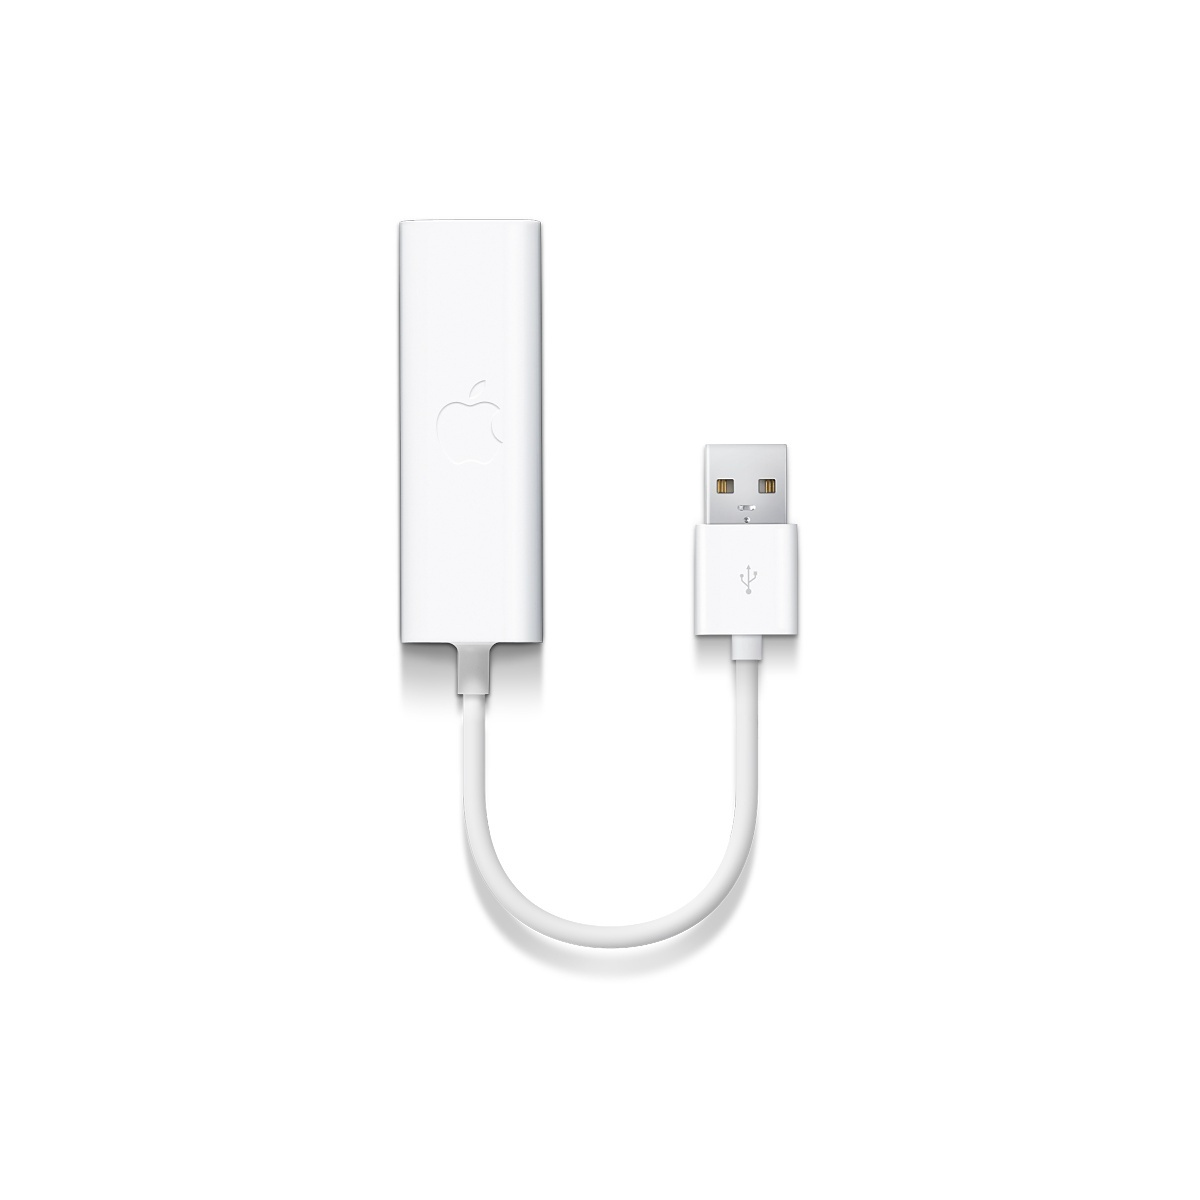Apple: (424, 373, 525, 480)
